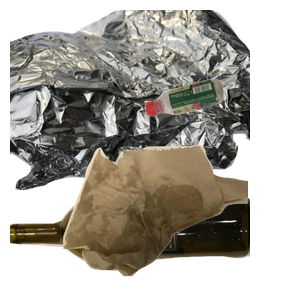glass: (10, 189, 250, 300)
metal: (10, 10, 250, 190)
plastic: (142, 77, 300, 186)
trash: (60, 142, 300, 300)
